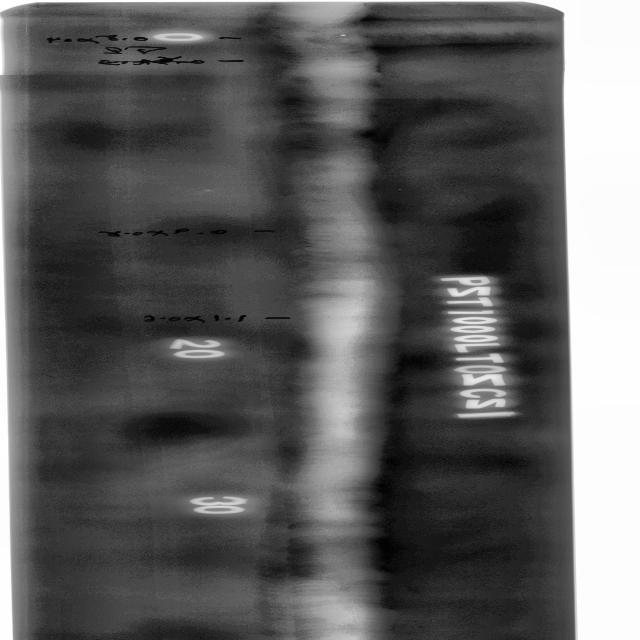porosity: (311, 41, 327, 44), (324, 316, 334, 320), (327, 84, 340, 87), (347, 51, 360, 54), (332, 227, 343, 230)
